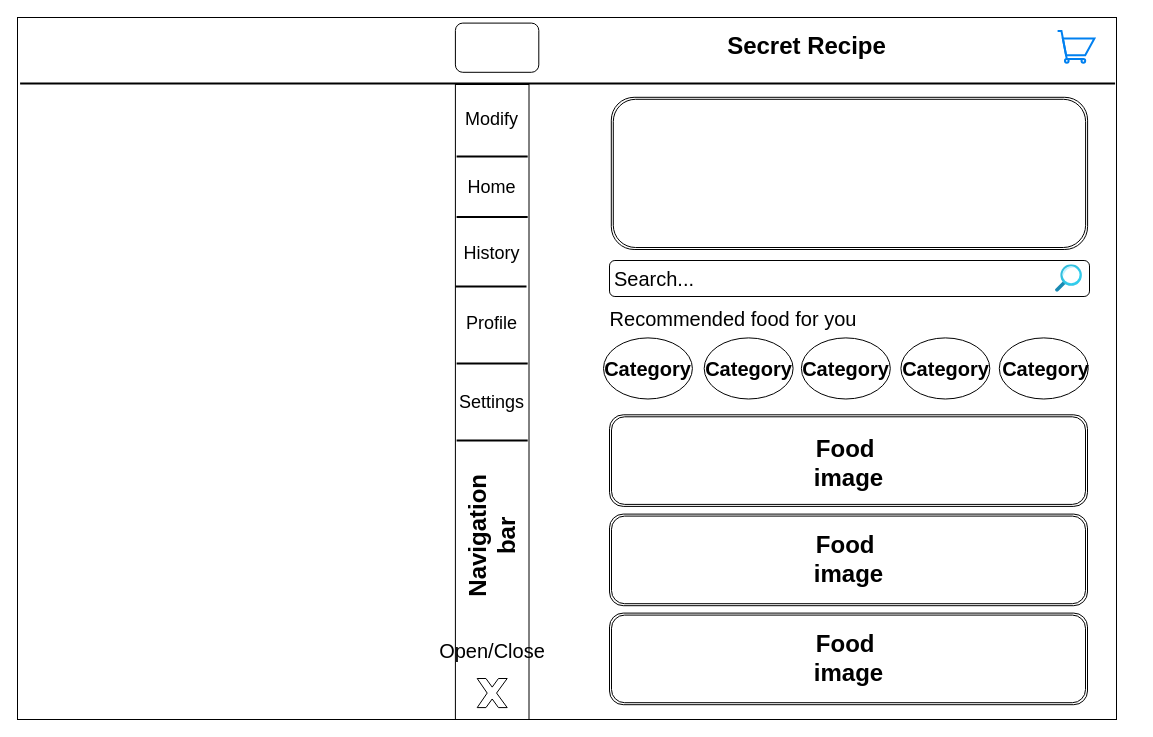
The diagram is 1153 pixels wide and 737 high, and some of its shapes have lost their labels. Here are the shapes that lost their labels. From the top down, the box of each, then its label:
(454, 22, 539, 72): Log
(610, 96, 1088, 250): Promotion image
